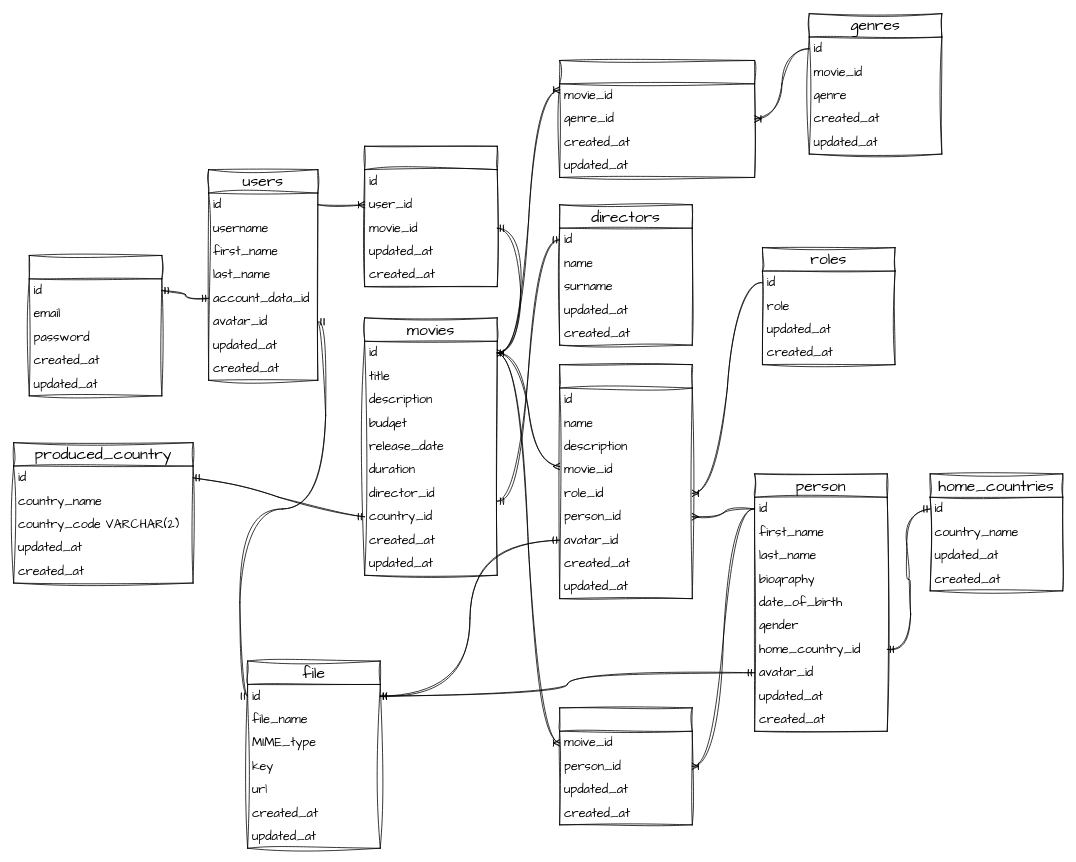
The diagram is 1076 pixels wide and 862 high, and some of its shapes have lost their labels. The box of each missing label's shape, as (x1, y1, x2, y2) in pixels:
account_data: (28, 255, 162, 396)
characters: (559, 364, 692, 599)
favourites: (364, 145, 497, 287)
movie_actors: (559, 707, 692, 825)
movies_by_genres: (559, 60, 755, 177)
